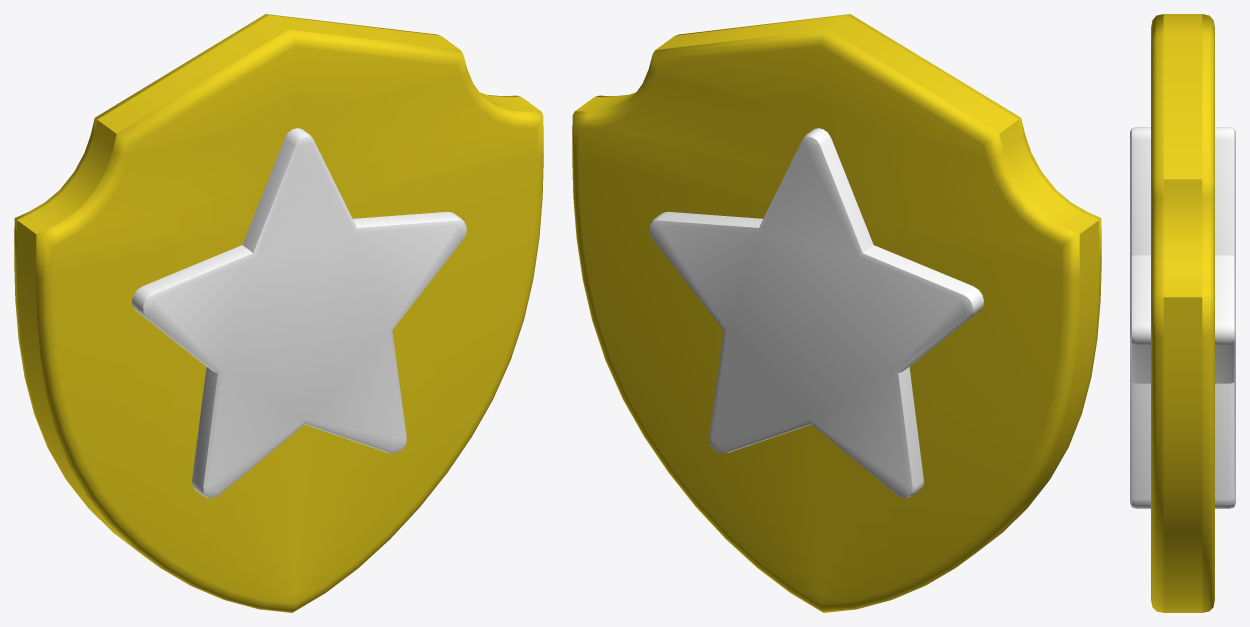
3 views of the same model, side by side, from view 1: azimuth 30°, elevation 25°; view 2: azimuth 150°, elevation 25°; view 3: azimuth 270°, elevation 25° (orthographic).
Visible parts, largest first — view 1: 派出所图标; view 2: 派出所图标; view 3: 派出所图标.
Boxes of the visible parts, left/top/right/bottom form: 派出所图标: left=14, top=14, right=543, bottom=612; 派出所图标: left=572, top=14, right=1101, bottom=612; 派出所图标: left=1130, top=14, right=1235, bottom=612.
Size of the model in its own units: 0.09 by 0.099 by 0.0166.
